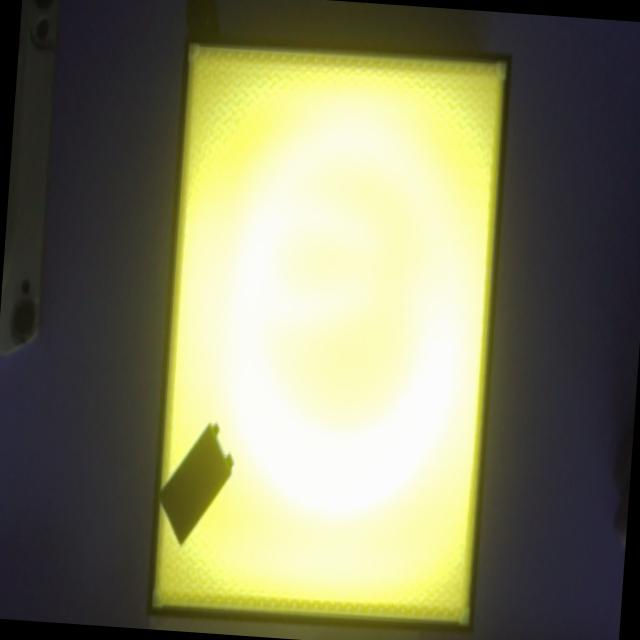bateria: (160, 423, 234, 546)
mesa: (143, 32, 513, 635)
